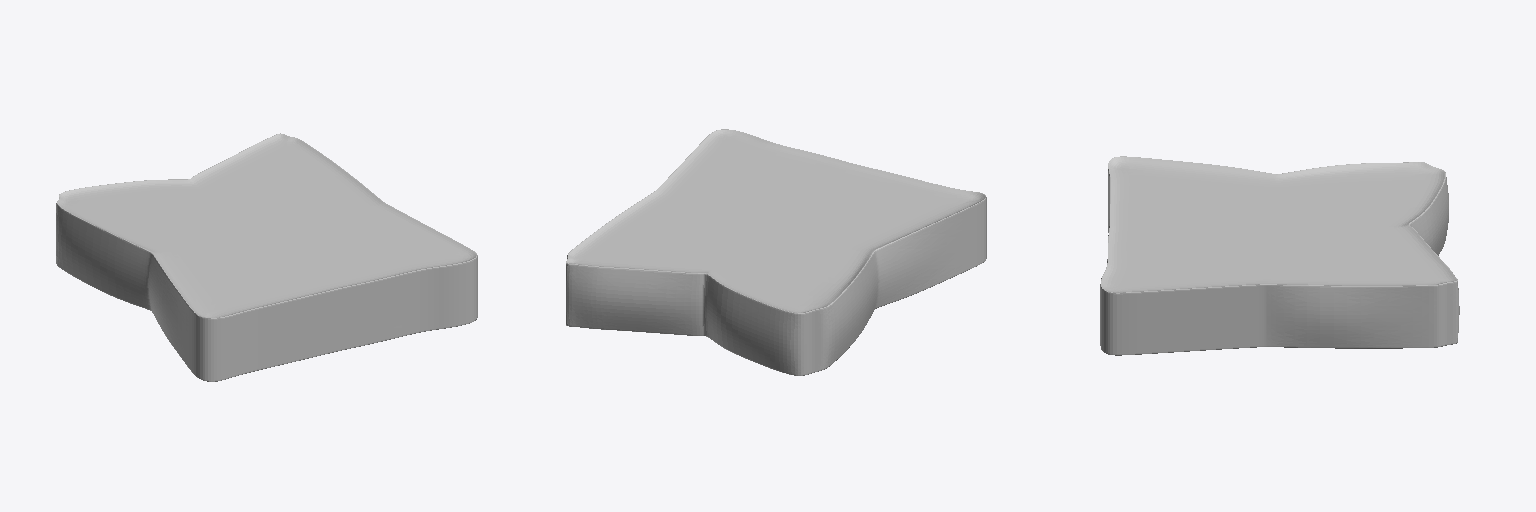
File: bread.obj
3 views of the same model, side by side, from view 1: azimuth 30°, elevation 25°; view 2: azimuth 150°, elevation 25°; view 3: azimuth 270°, elevation 25° (orthographic).
Visible parts, largest first — view 1: obj1; view 2: obj1; view 3: obj1.
Part boxes in pixels (bbox=[...]): obj1: bbox=[56, 133, 477, 381]; obj1: bbox=[566, 129, 986, 375]; obj1: bbox=[1100, 156, 1459, 355].
Bounding box in the file's own units: 9.33 × 2.1 × 10.52.